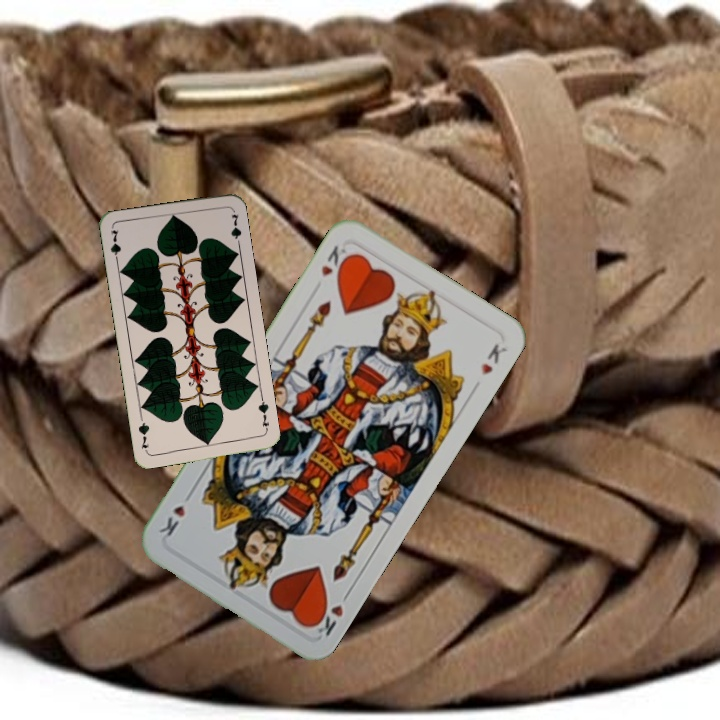G7: (106, 226, 124, 266), (254, 394, 272, 434)
HK: (307, 586, 354, 640), (317, 241, 353, 281)
